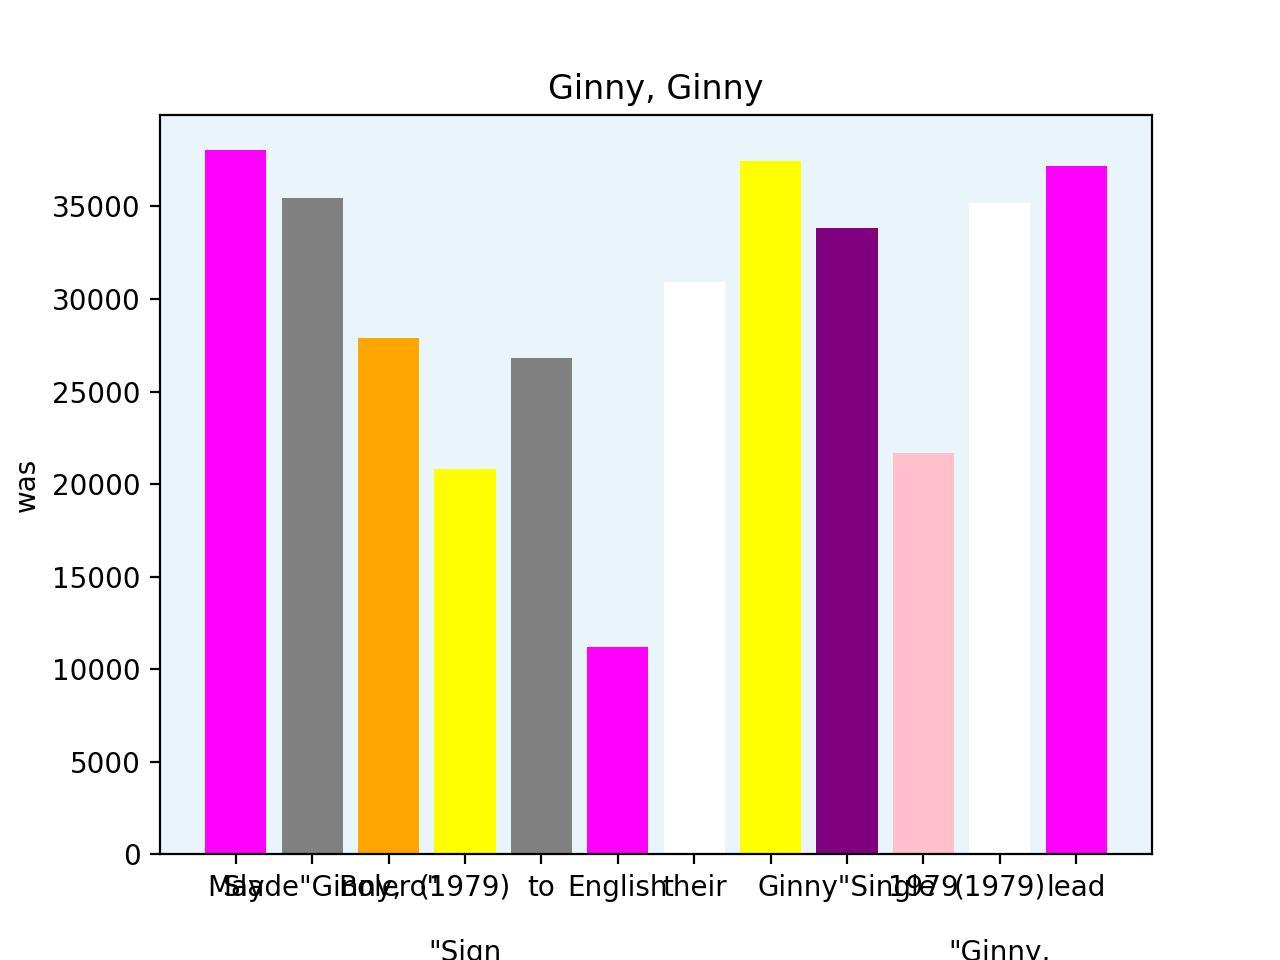axis: (12, 196, 140, 871)
rectangle: (205, 150, 266, 854), (740, 161, 801, 854), (1046, 166, 1107, 854), (281, 199, 343, 854), (970, 204, 1030, 854), (816, 229, 878, 854), (663, 282, 725, 854), (358, 338, 419, 854), (511, 359, 572, 854), (893, 453, 954, 854), (434, 469, 496, 854), (588, 647, 648, 854)
